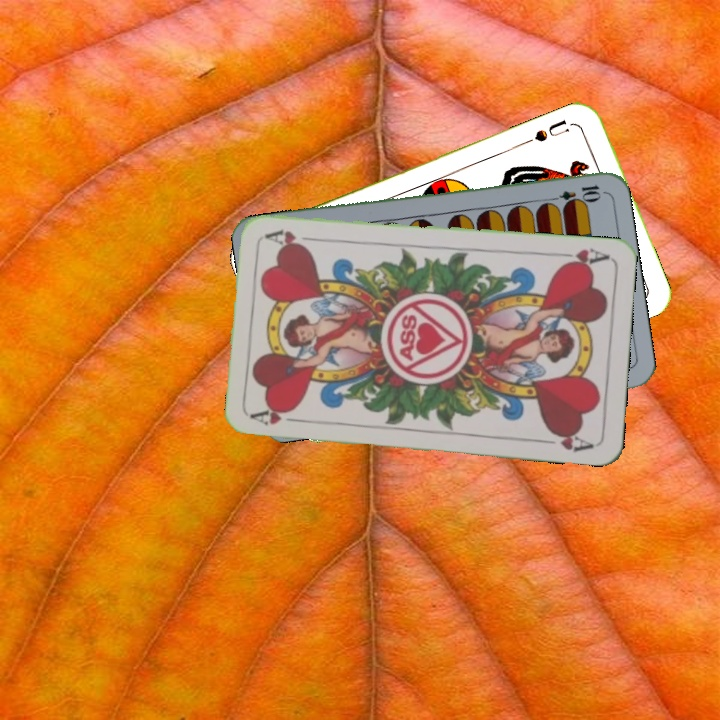E10: (544, 181, 603, 206)
HA: (551, 244, 611, 270), (249, 406, 308, 429)
SU: (530, 115, 572, 145)
